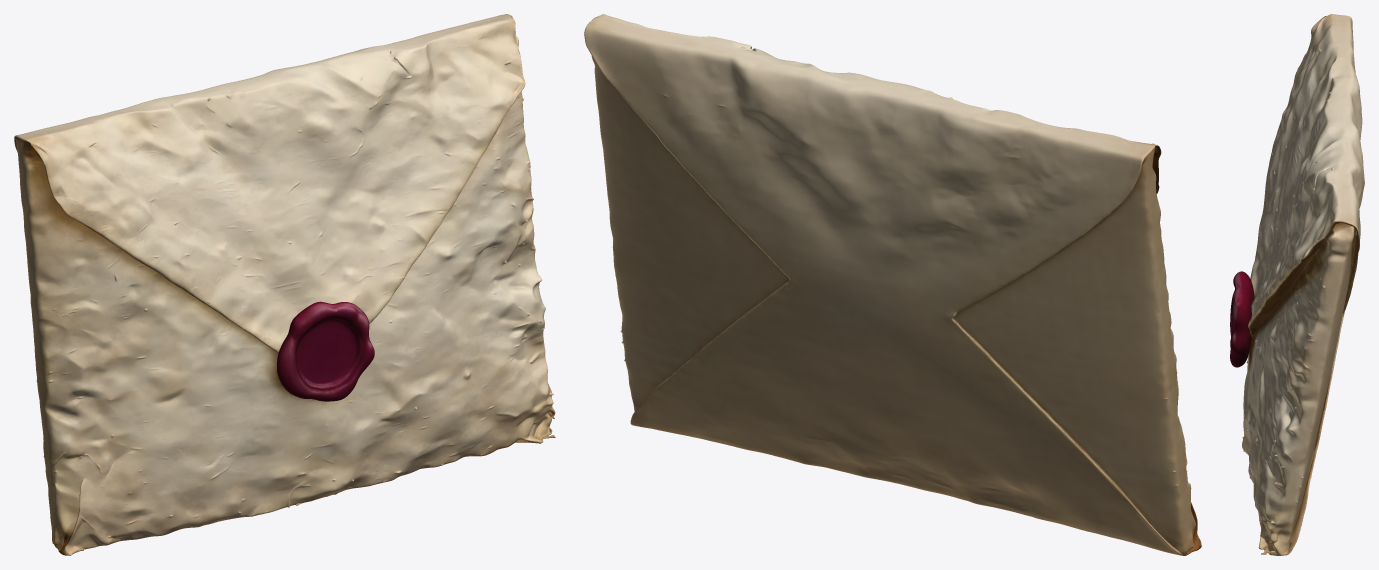
File: antique+parchment+envelope+3d+model.glb
The picture shows the model from 3 angles, left to right: view 1: azimuth 30°, elevation 25°; view 2: azimuth 150°, elevation 25°; view 3: azimuth 270°, elevation 25°; orthographic projection. The views are drawn at different scales.
Visible parts, largest first — view 1: tripo_node_d2986c64-cca3-4bbb-a91b-81b199a6c371; view 2: tripo_node_d2986c64-cca3-4bbb-a91b-81b199a6c371; view 3: tripo_node_d2986c64-cca3-4bbb-a91b-81b199a6c371.
Part boxes in pixels (bbox=[...]): tripo_node_d2986c64-cca3-4bbb-a91b-81b199a6c371: bbox=[14, 14, 555, 555]; tripo_node_d2986c64-cca3-4bbb-a91b-81b199a6c371: bbox=[584, 14, 1201, 555]; tripo_node_d2986c64-cca3-4bbb-a91b-81b199a6c371: bbox=[1230, 14, 1364, 555].
Bounding box in the file's own units: 1 × 0.746 × 0.2715.
Materials: 1 (1 with a texture image).
